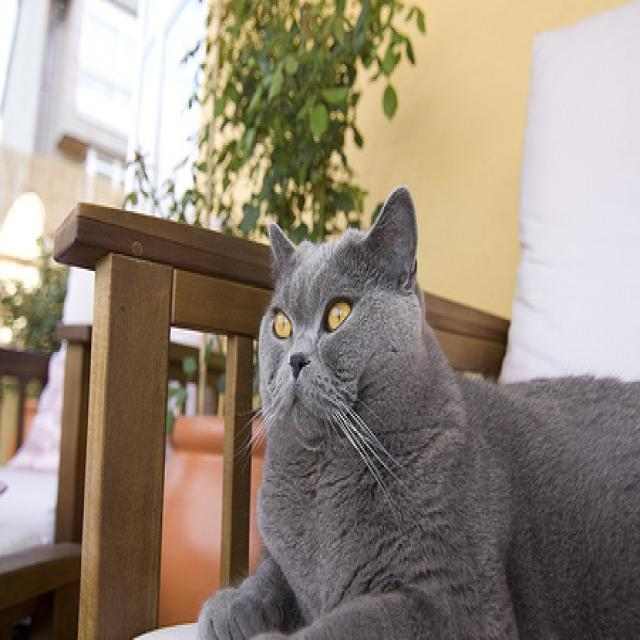British Shorthair: (193, 181, 640, 640)
